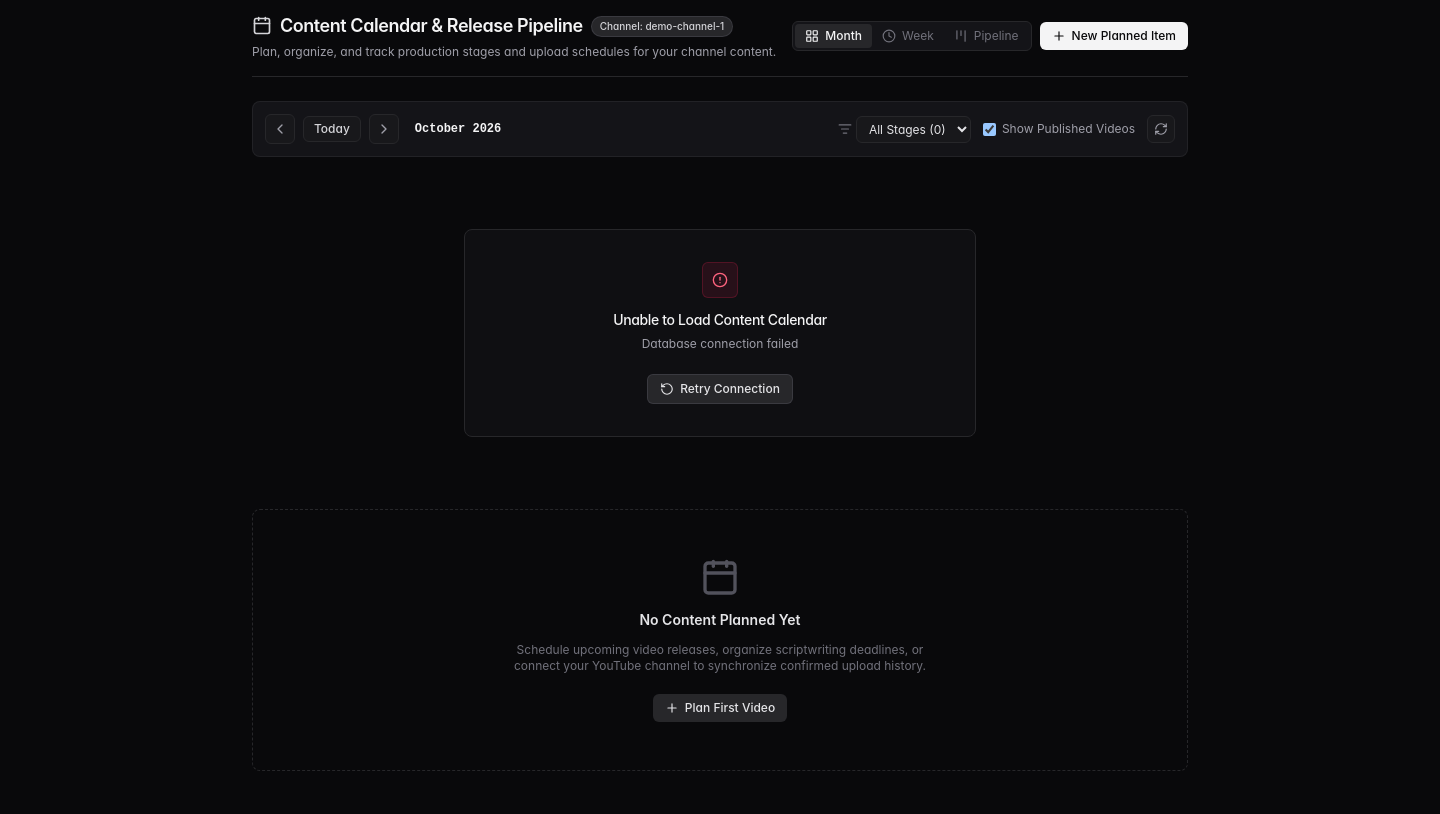
Test case: ContentPlannerPage Tests › handles error state and retries successfully
Expected: the element with test id "calendar-error" is shown, [464,229,976,436]
Expected: the text "Database connection failed" is shown, [642,336,798,351]
Click the button "Retry Connection" at (720, 388), box [647,374,793,404]
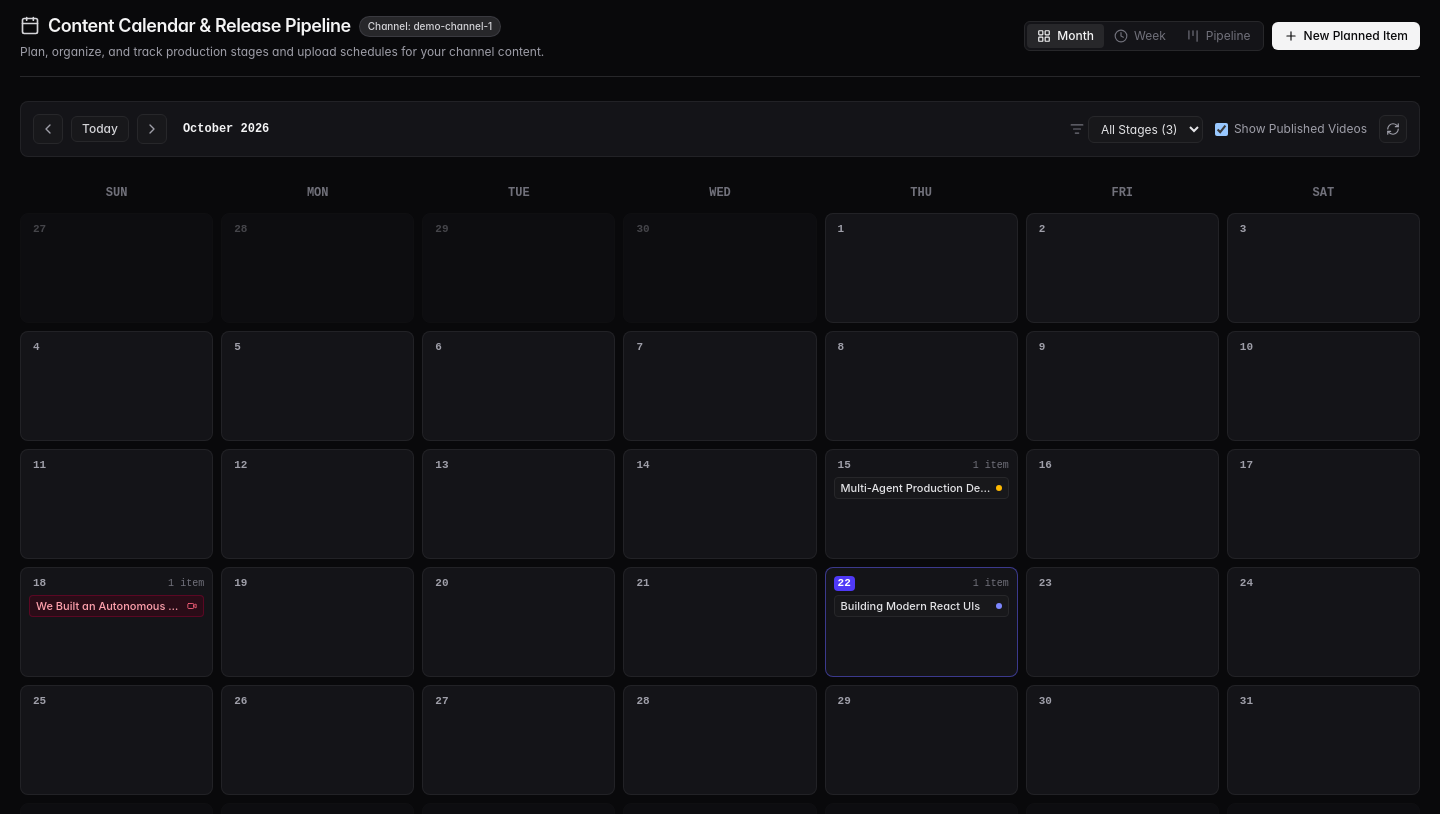
Expected: the text "Multi-Agent Production Deep Dive" is shown, [841,480,992,496]
